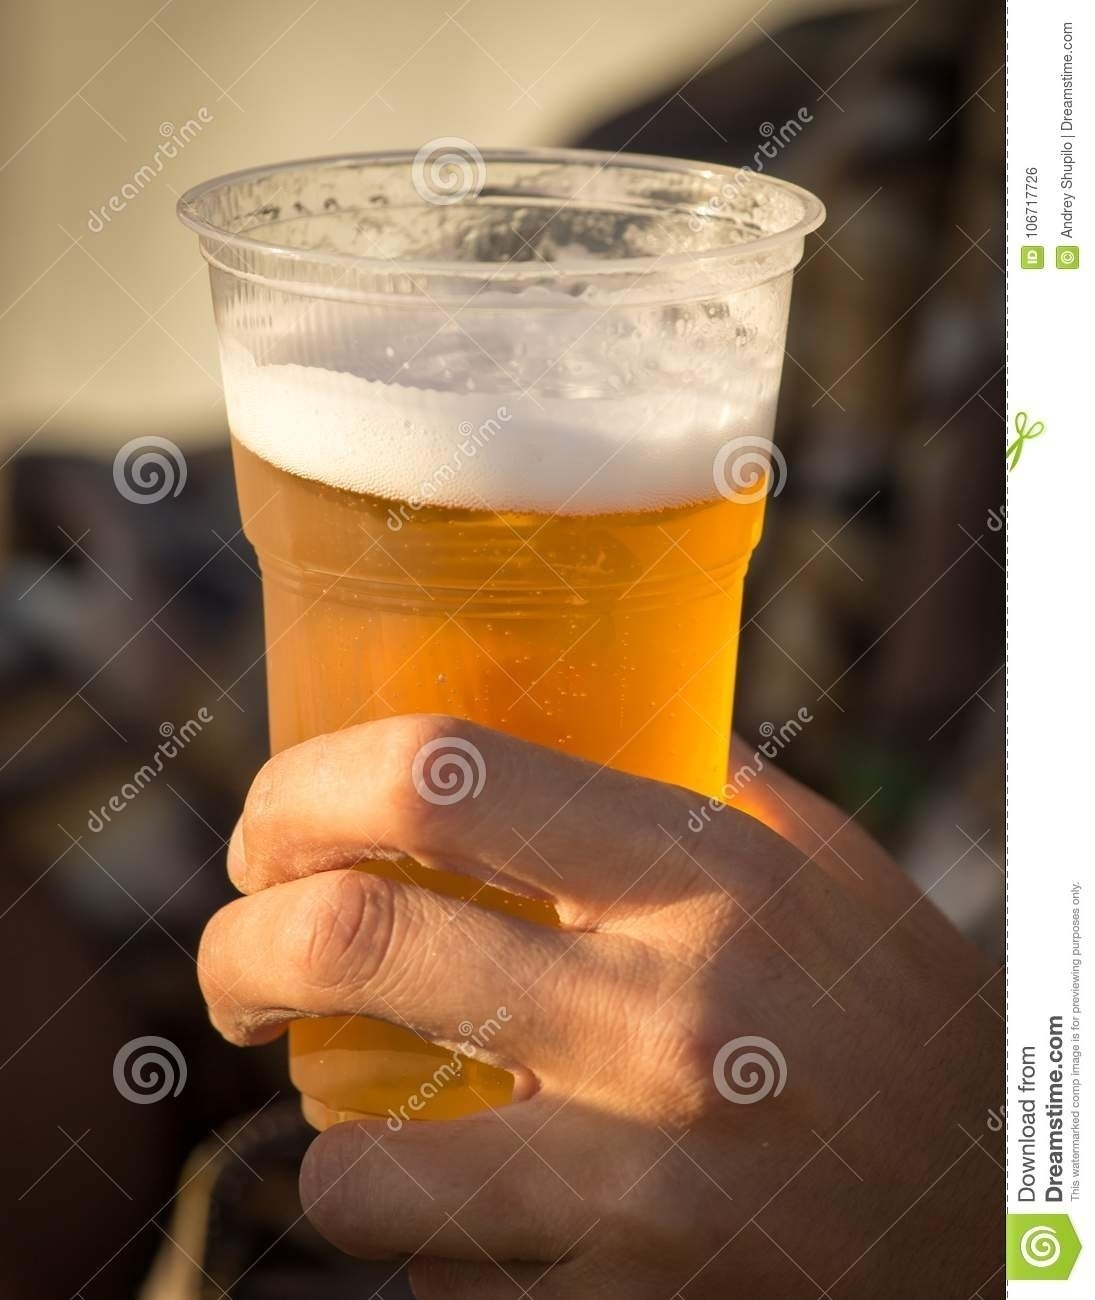whiskey: (246, 156, 810, 1091)
